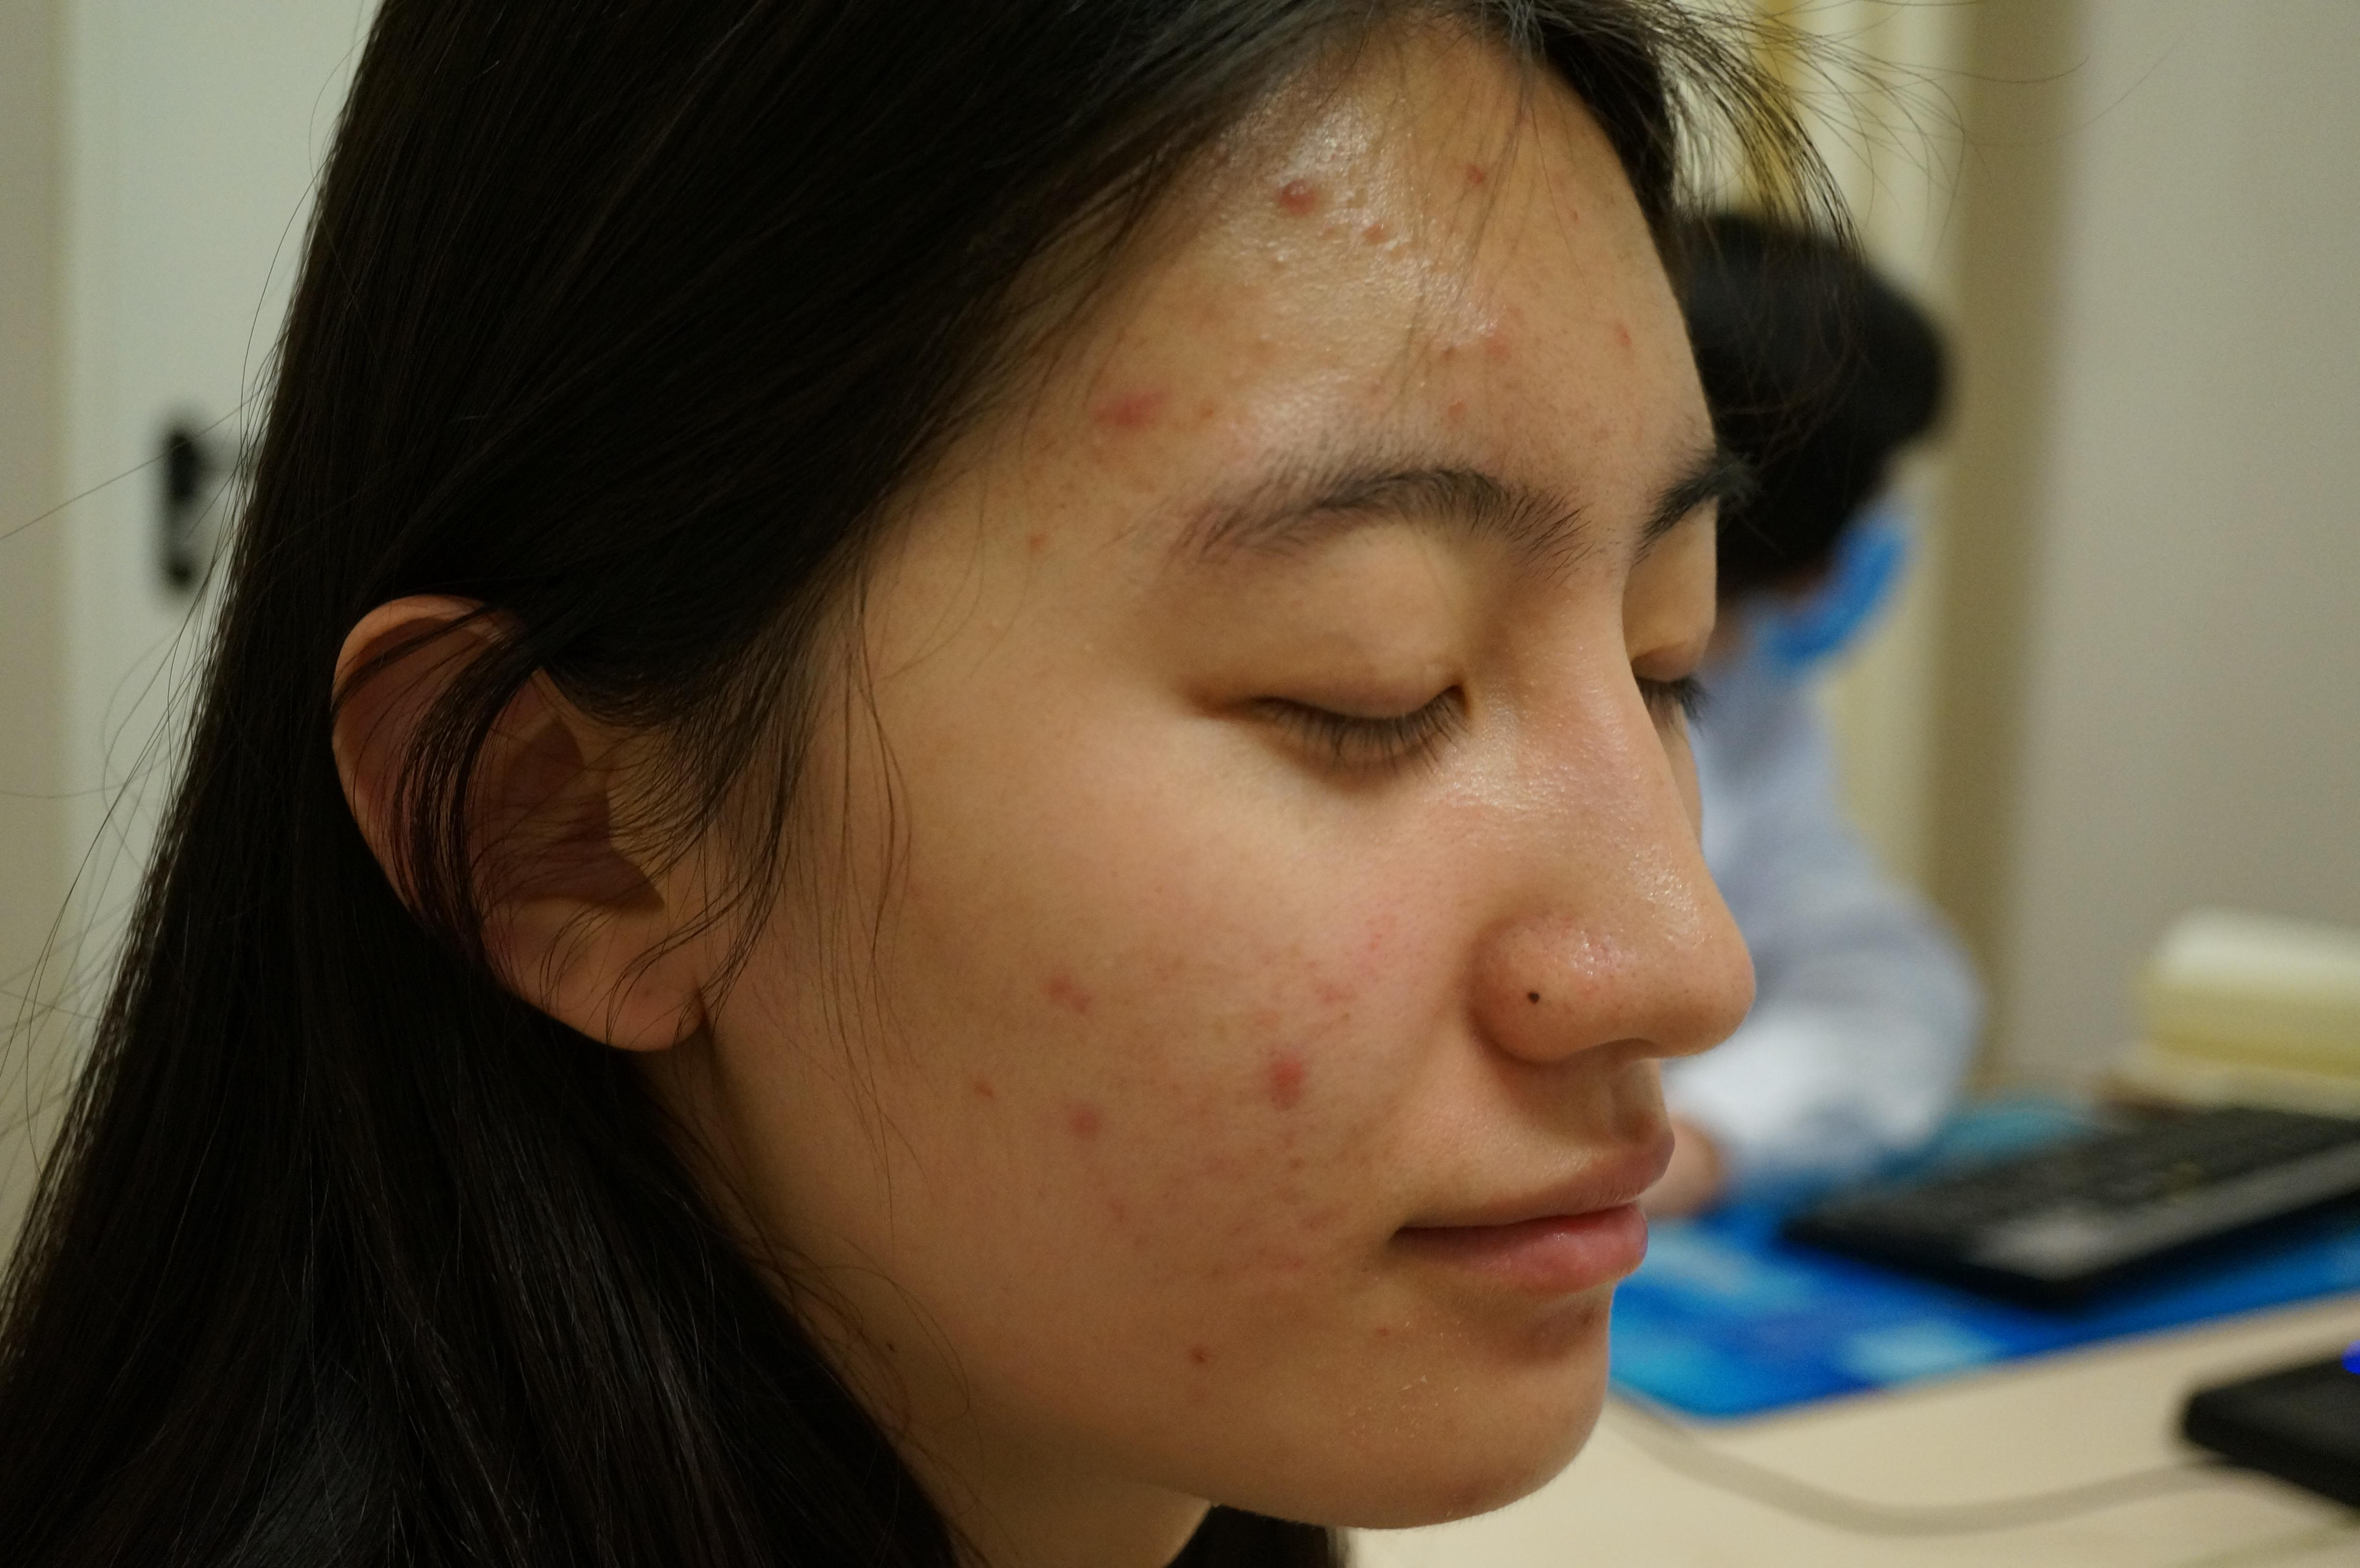fore: (1249, 1011, 1337, 1123), (1022, 964, 1121, 1036), (1100, 369, 1169, 469), (1069, 1064, 1137, 1157), (1468, 297, 1536, 390), (1253, 157, 1324, 238)
